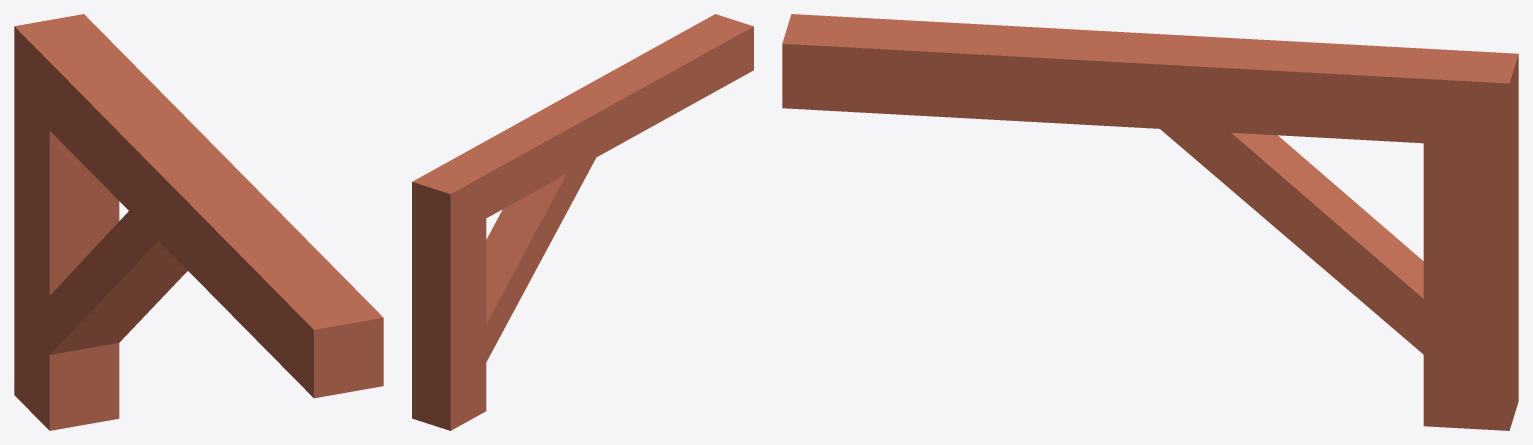
File: hooker.fbx
3 renders of one model, left to right at view 1: azimuth 30°, elevation 25°; view 2: azimuth 150°, elevation 25°; view 3: azimuth 270°, elevation 25°, orthographic. The views are drawn at different scales.
Visible parts, largest first — view 1: lantern_holder1; view 2: lantern_holder1; view 3: lantern_holder1.
Boxes of the visible parts, x1=… form: lantern_holder1: x1=14, y1=14, x2=383, y2=430; lantern_holder1: x1=412, y1=14, x2=753, y2=430; lantern_holder1: x1=782, y1=14, x2=1518, y2=430.
Size of the model in its own units: 0.6325 by 1.47 by 2.83.
